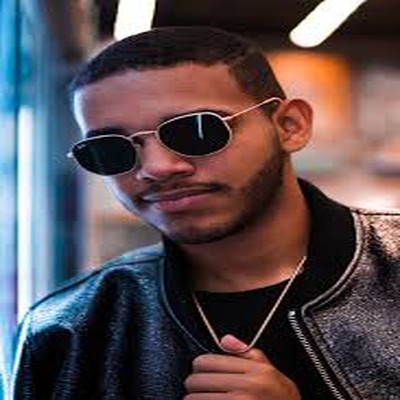eywear: (66, 89, 281, 192)
